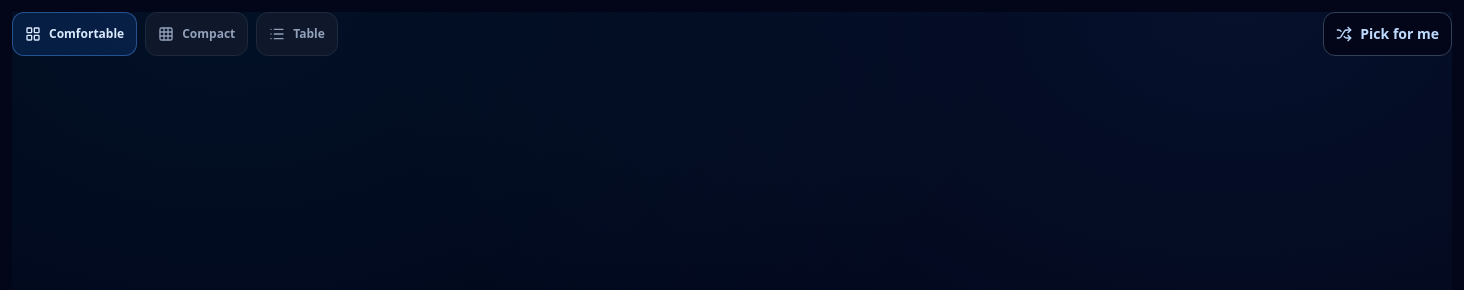
it: non-mutating title picker › explains an empty Planning pool
Step 1. Click the button "Pick for me" → (1388, 34), box [1323,12,1452,56]
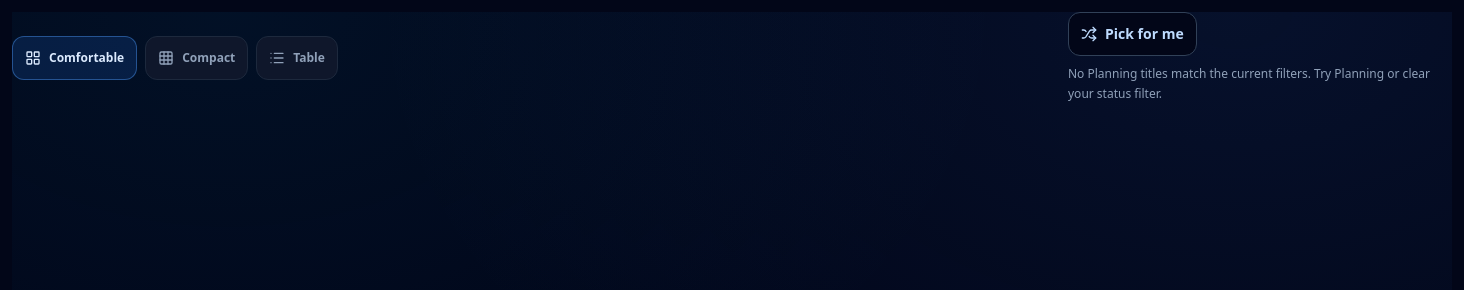
Result: the message shows "No Planning titles" at [1068,65,1430,102]
